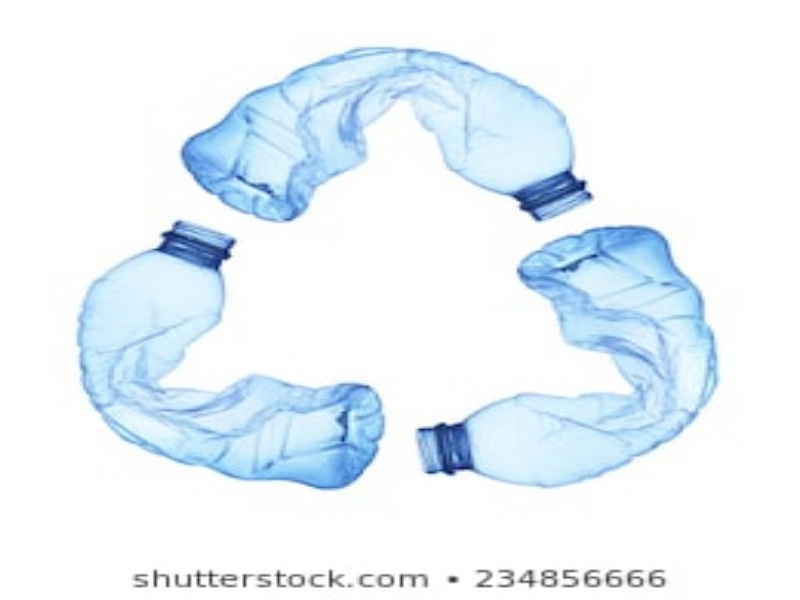plastic-bottle: (73, 216, 387, 492), (413, 224, 719, 489), (179, 42, 598, 223)
